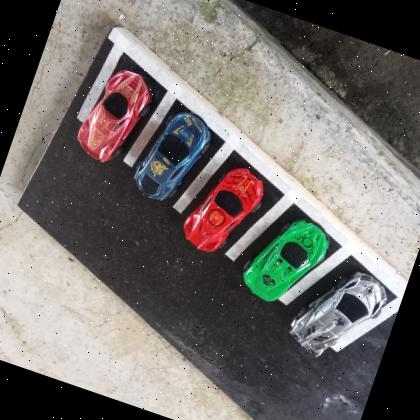Car: (282, 255, 392, 372), (236, 204, 335, 316), (68, 58, 158, 173), (128, 100, 219, 212), (178, 155, 270, 264)
